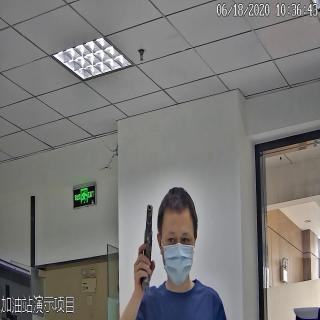gun: (135, 198, 161, 292)
